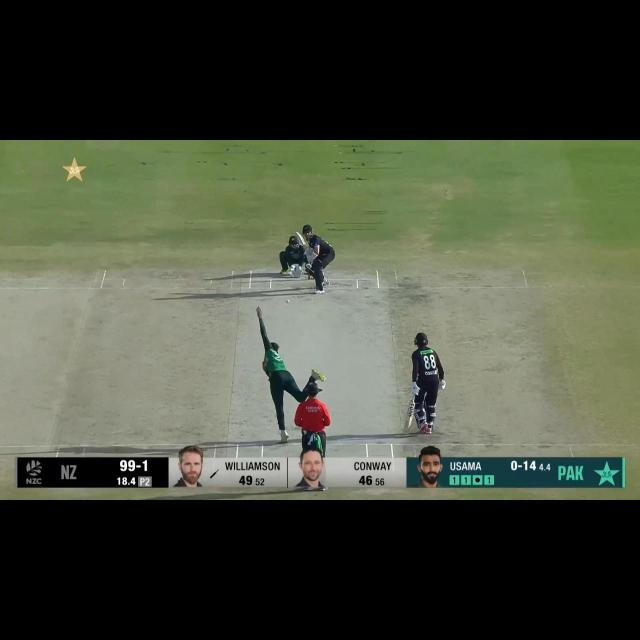bat: (400, 400, 418, 437), (293, 227, 310, 252)
toe: (400, 420, 415, 435), (294, 230, 303, 240)
